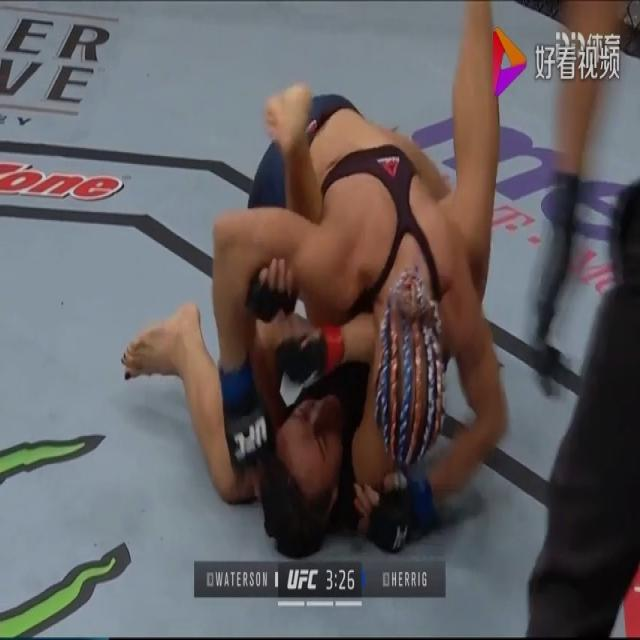fight: (111, 69, 551, 568)
non-fight: (495, 1, 639, 636)
